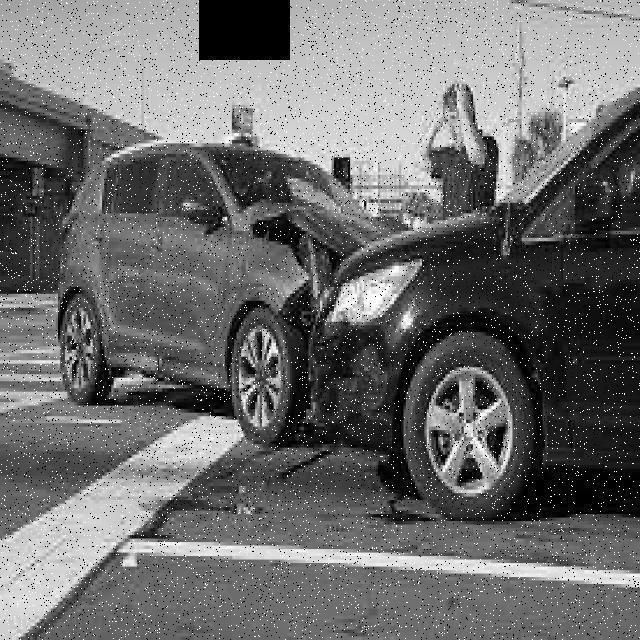accident: (46, 77, 640, 528)
